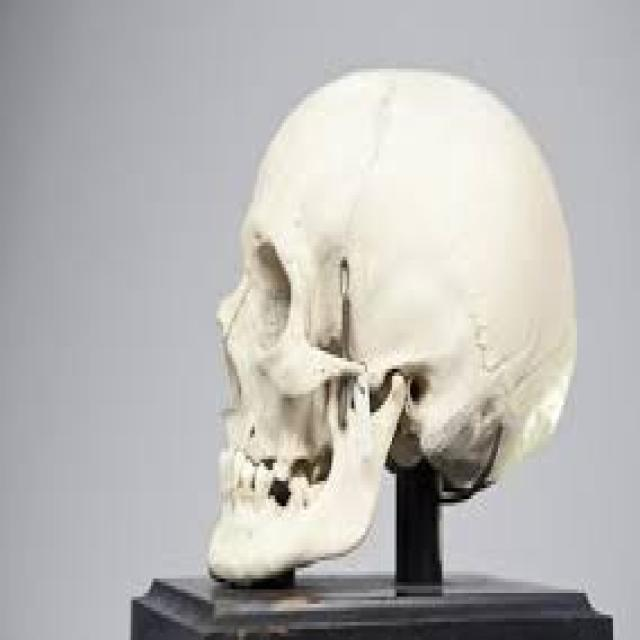skull: (201, 62, 587, 598)
